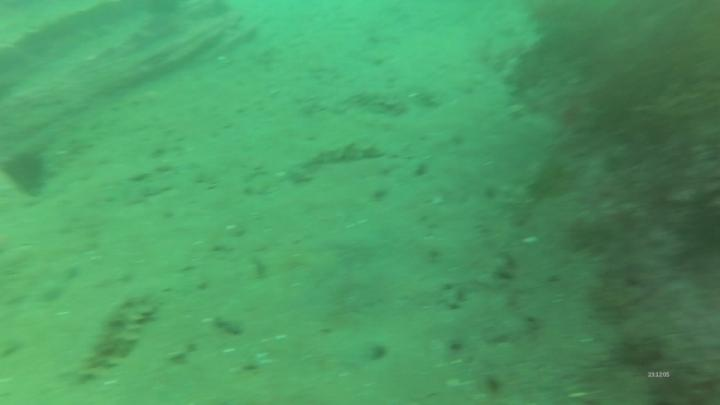holothurian: (83, 293, 161, 388)
waterweeds: (542, 3, 720, 203)
